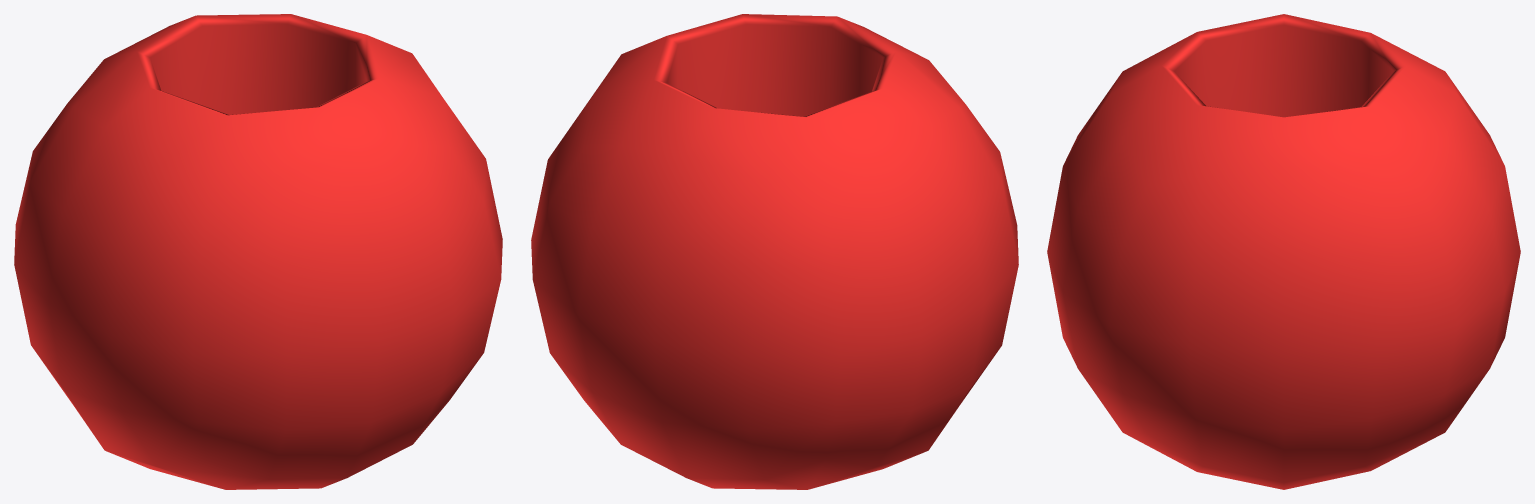
File: Store_9_Toy_Ball_8.glb
The picture shows the model from 3 angles, left to right: view 1: azimuth 30°, elevation 25°; view 2: azimuth 150°, elevation 25°; view 3: azimuth 270°, elevation 25°; orthographic projection. The views are drawn at different scales.
Parts seen in each view (by area): view 1: Store_9_Toy_Ball_8; view 2: Store_9_Toy_Ball_8; view 3: Store_9_Toy_Ball_8.
Part boxes in pixels (bbox=[...]): Store_9_Toy_Ball_8: bbox=[14, 14, 502, 489]; Store_9_Toy_Ball_8: bbox=[531, 14, 1018, 489]; Store_9_Toy_Ball_8: bbox=[1047, 14, 1520, 489].
Size of the model in its own units: 0.2652 by 0.2301 by 0.2652.
1 material, 1 textured.
